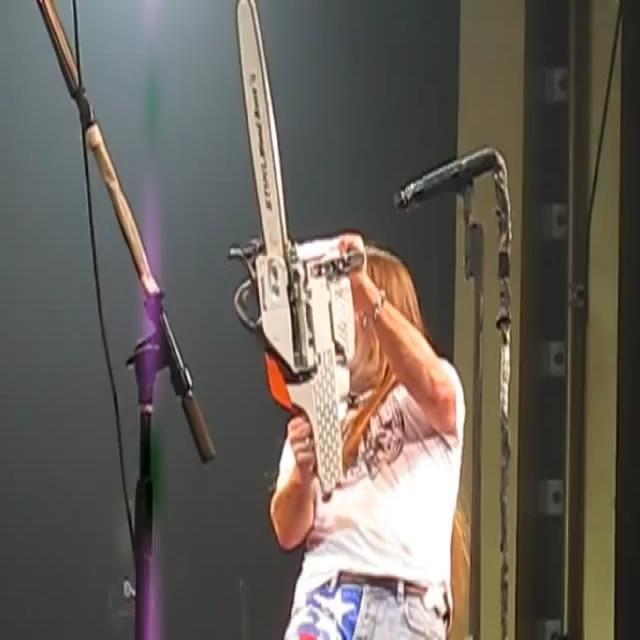Chainsaw: (204, 3, 372, 506)
